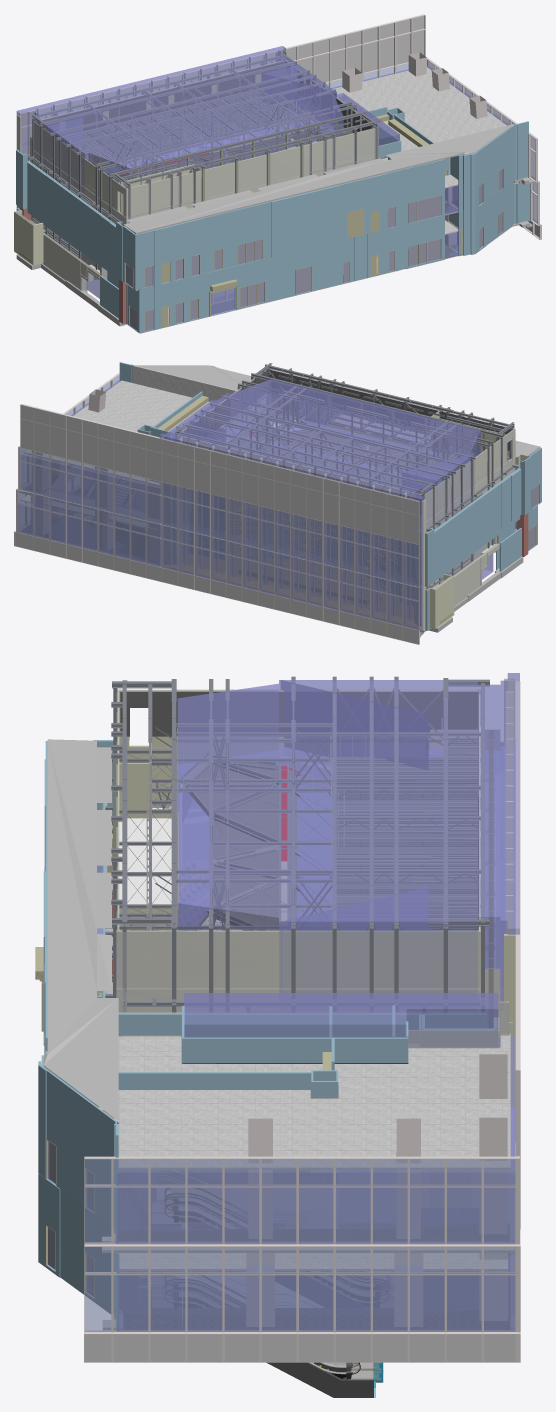
3 renders of one model, top to bottom at view 1: azimuth 30°, elevation 25°; view 2: azimuth 150°, elevation 25°; view 3: azimuth 270°, elevation 25°, orthographic. The views are drawn at different scales.
Parts seen in each view (by area): view 1: ペイント - ペールブルー, ゾーン - 01, 金属 - 鉄 ダークグレー塗装, 漆喰 - 白 ファイン, LGS, ペイント - サンドベージュ, コンクリート, Rhino - 002, 天井 - タイル-60x60, 金属 - アルミニウム, 断熱材 - グラスウール 黒, ガラス - シンプル 青 ライト (+6 smaller); view 2: ゾーン - 01, ガラス - シンプル 青 ライト, Rhino - 002, 金属 - 鉄 ダークグレー塗装, 金属 - アルミニウム, ペイント - ペールブルー, 漆喰 - 白 ファイン, LGS, 天井 - タイル-60x60, 断熱材 - グラスウール 黒, プラスチック - 光沢 白, コンクリート (+9 smaller); view 3: ゾーン - 01, ガラス - シンプル 青 ライト, 金属 - 鉄 ダークグレー塗装, 天井 - タイル-60x60, ペイント - ペールブルー, 金属 - アルミニウム, 漆喰 - 白 ファイン, コンクリート, LGS, Rhino - 002, 断熱材 - グラスウール 黒, Rhino - 011 (+10 smaller).
Part boxes in pixels (box(x1,y1,x2,y2)): ペイント - ペールブルー: box(16, 101, 530, 333); ゾーン - 01: box(16, 46, 508, 330); 金属 - 鉄 ダークグレー塗装: box(29, 53, 377, 272); 漆喰 - 白 ファイン: box(14, 50, 374, 288); LGS: box(15, 50, 457, 289); ペイント - サンドベージュ: box(18, 73, 503, 331); コンクリート: box(16, 124, 534, 333); Rhino - 002: box(20, 16, 539, 237); 天井 - タイル-60x60: box(331, 67, 515, 234); 金属 - アルミニウム: box(19, 14, 541, 304); 断熱材 - グラスウール 黒: box(36, 61, 372, 132); ガラス - シンプル 青 ライト: box(28, 61, 537, 303); ゾーン - 01: box(18, 379, 539, 630); ガラス - シンプル 青 ライト: box(18, 375, 516, 629); Rhino - 002: box(16, 405, 418, 644); 金属 - 鉄 ダークグレー塗装: box(174, 363, 516, 587); 金属 - アルミニウム: box(14, 372, 516, 644); ペイント - ペールブルー: box(119, 362, 541, 630); 漆喰 - 白 ファイン: box(162, 369, 528, 630); LGS: box(161, 369, 515, 629); 天井 - タイル-60x60: box(21, 366, 236, 527); 断熱材 - グラスウール 黒: box(182, 370, 512, 453); プラスチック - 光沢 白: box(179, 438, 420, 622); コンクリート: box(19, 365, 540, 637); ゾーン - 01: box(48, 673, 519, 1331); ガラス - シンプル 青 ライト: box(85, 1159, 515, 1331); 金属 - 鉄 ダークグレー塗装: box(105, 676, 489, 1013); 天井 - タイル-60x60: box(98, 809, 510, 1270); ペイント - ペールブルー: box(38, 740, 508, 1330); 金属 - アルミニウム: box(84, 681, 520, 1362); 漆喰 - 白 ファイン: box(97, 678, 515, 1107); コンクリート: box(44, 739, 514, 1329); LGS: box(116, 679, 514, 1153); Rhino - 002: box(84, 1334, 515, 1361); 断熱材 - グラスウール 黒: box(120, 692, 478, 930); Rhino - 011: box(179, 764, 296, 930).
Bounding box in the file's own units: 4663 × 2358 × 1894.
60 materials, 9 textured.
